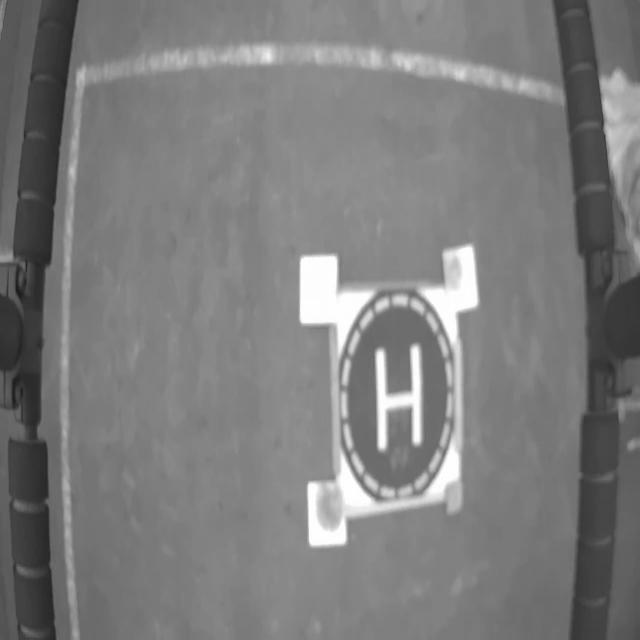Helipad: (375, 340, 422, 452)
